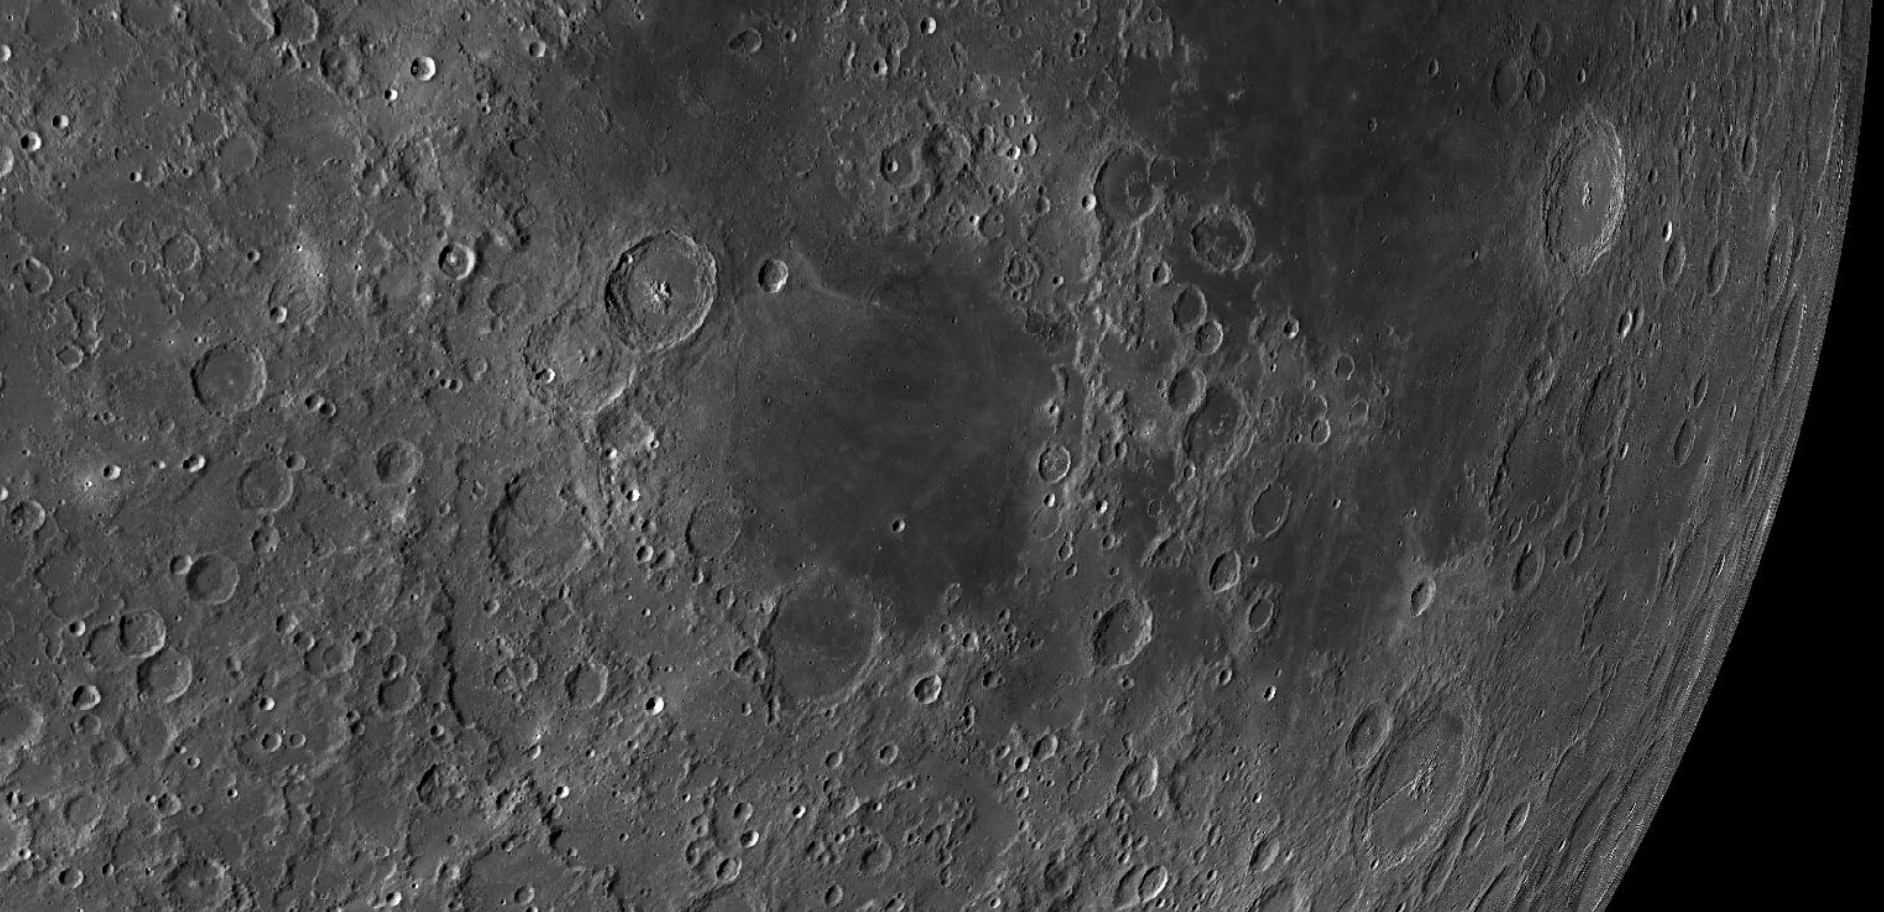crater: (1334, 669, 1480, 881), (582, 221, 739, 385), (1513, 99, 1642, 293), (745, 554, 888, 726), (472, 455, 614, 592), (1363, 529, 1479, 652), (172, 329, 276, 427), (1080, 577, 1171, 680), (180, 544, 249, 632), (1765, 287, 1812, 407), (555, 640, 621, 725), (360, 435, 434, 507), (749, 242, 810, 318), (155, 222, 219, 284), (708, 14, 771, 67), (1295, 407, 1354, 463), (428, 228, 483, 285), (868, 495, 925, 547), (392, 48, 446, 95), (46, 93, 93, 147)
